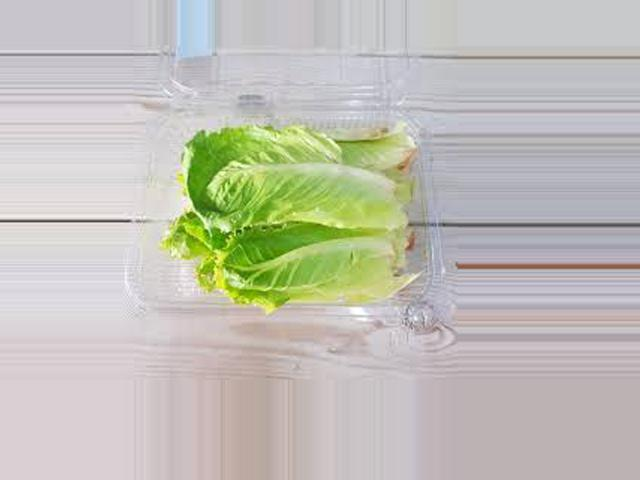lettuce: (162, 123, 404, 308)
